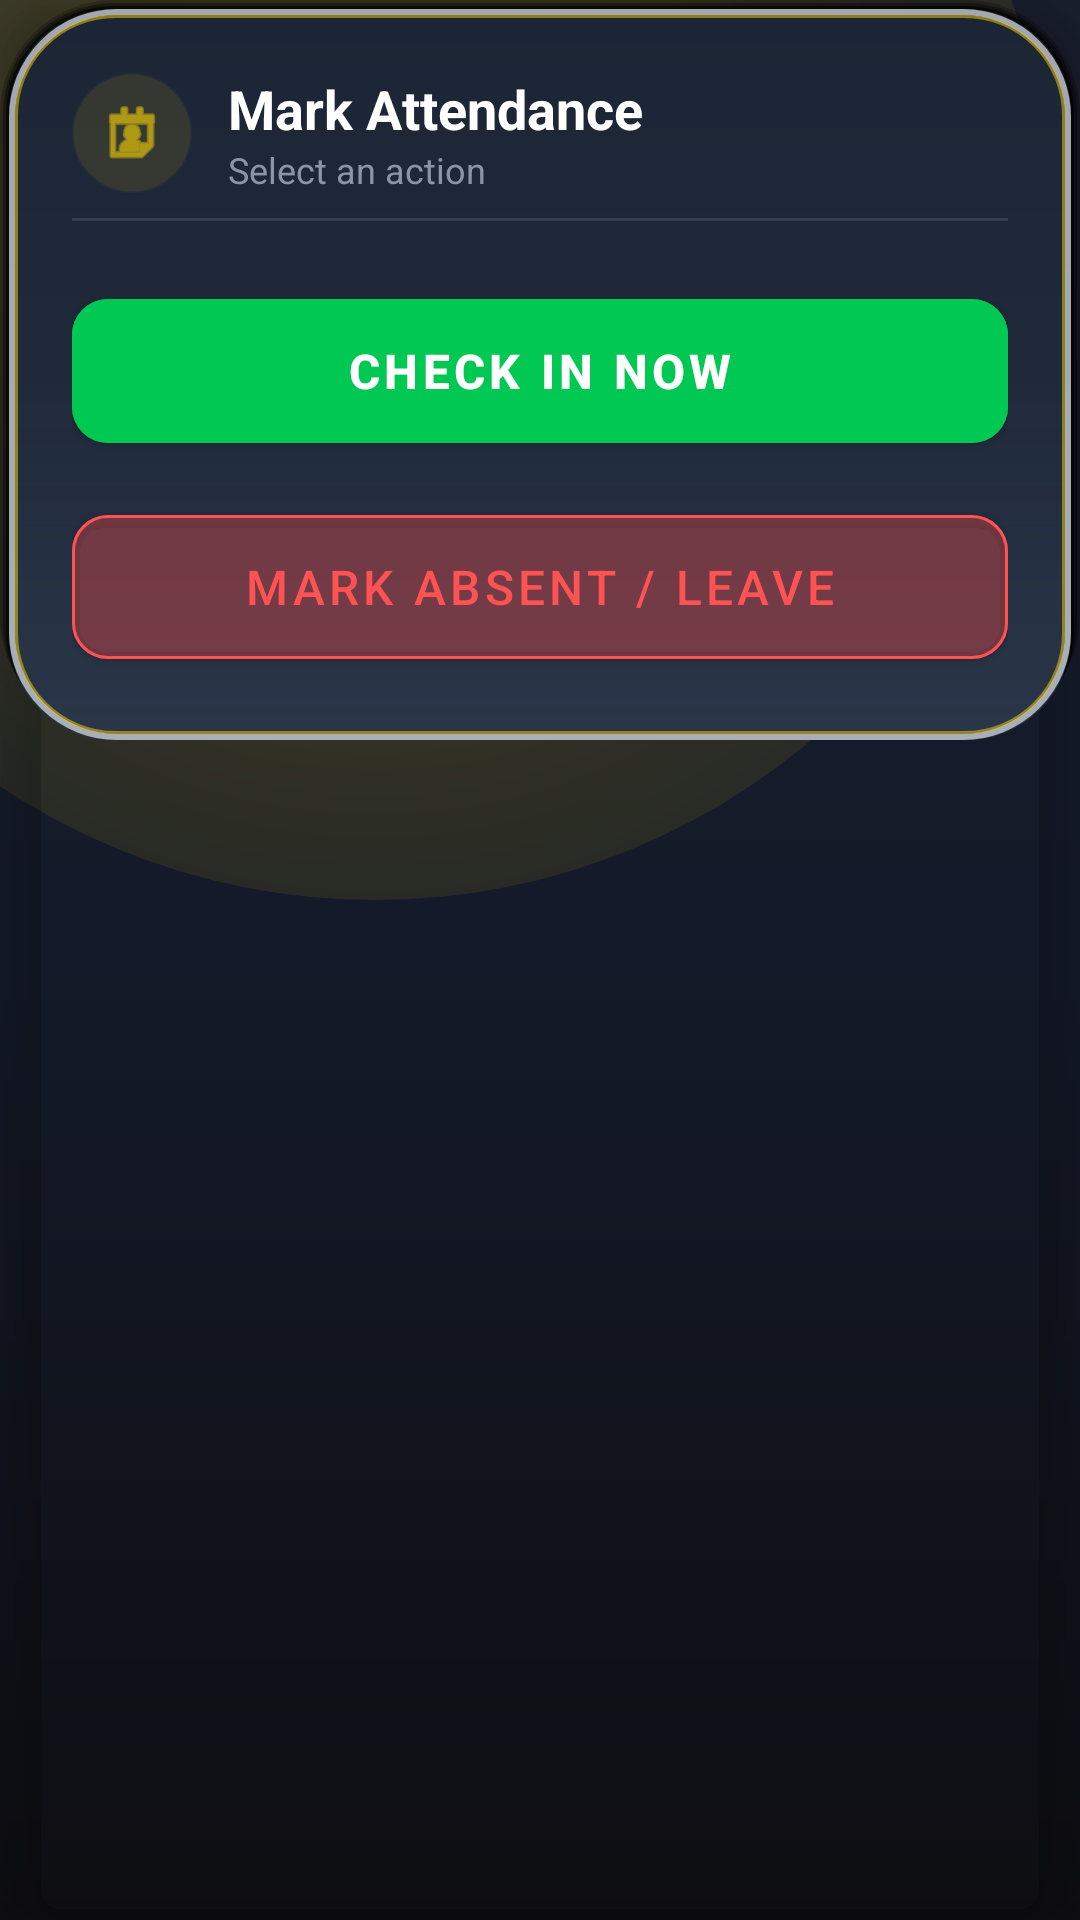

Named icons in this screenshot (1080px×1920px) and their bounding boxes, (x1, y1, x2, y2):
calendar: (108, 106, 156, 159)
